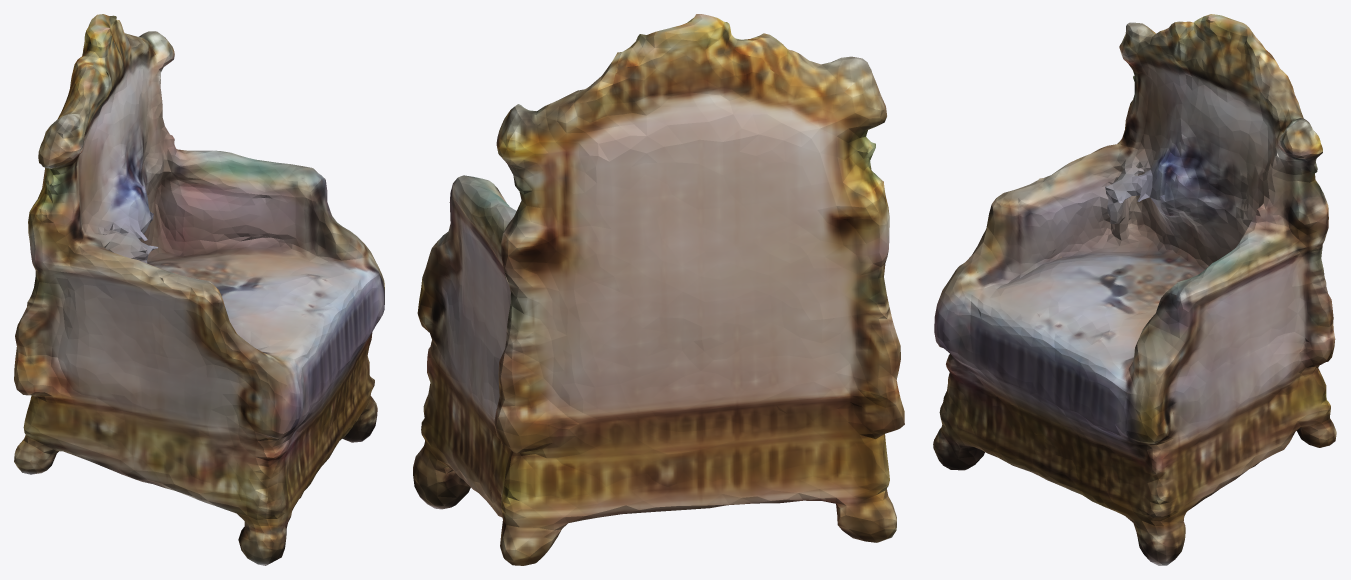
Rendered from SESSION_1709319187_8242496_preview-2.glb.
3 views of the same model, side by side, from view 1: azimuth 30°, elevation 25°; view 2: azimuth 150°, elevation 25°; view 3: azimuth 270°, elevation 25° (orthographic). The views are drawn at different scales.
Parts seen in each view (by area): view 1: output; view 2: output; view 3: output.
Part boxes in pixels (x1,y1,x2,y2): output: (14, 14, 384, 565); output: (413, 14, 904, 565); output: (933, 14, 1336, 565).
Size of the model in its own units: 1.31 by 1.52 by 1.27.
1 material, 1 textured.
